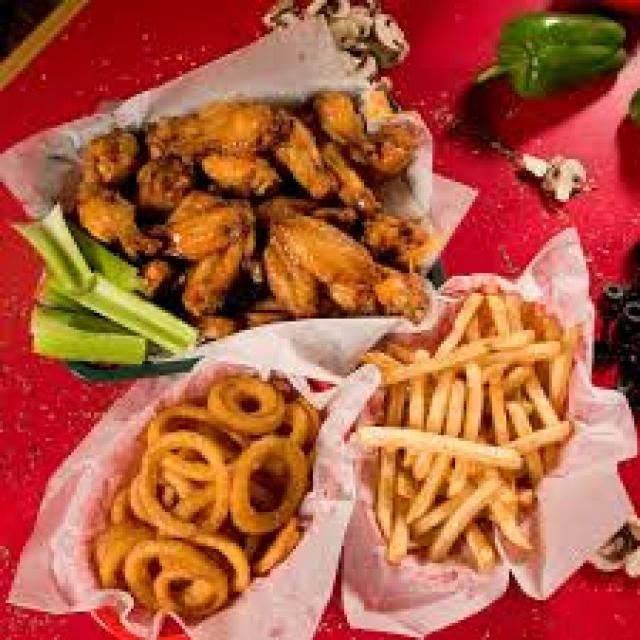Chicken Wings: (60, 80, 438, 332)
French Fries: (364, 287, 563, 586)
Onion Rings: (88, 364, 327, 614)
